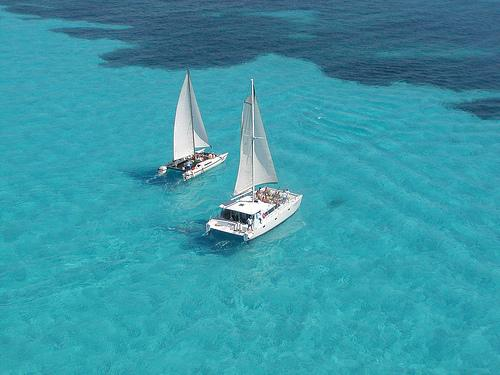Ship: (203, 79, 304, 241), (157, 70, 229, 184)
